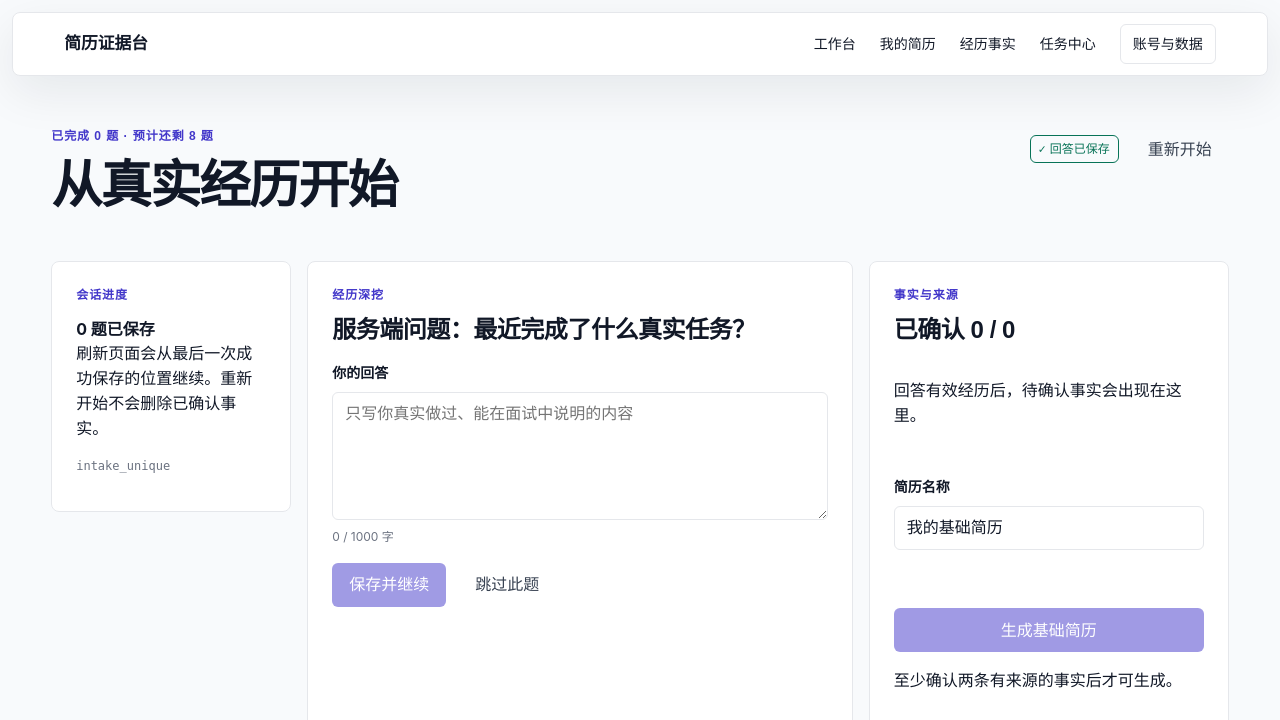
Test: V2 persisted intake › records a skip without creating a fact
Click the button "跳过此题".
click(507, 585)  # box x1=458 y1=563 x2=556 y2=607
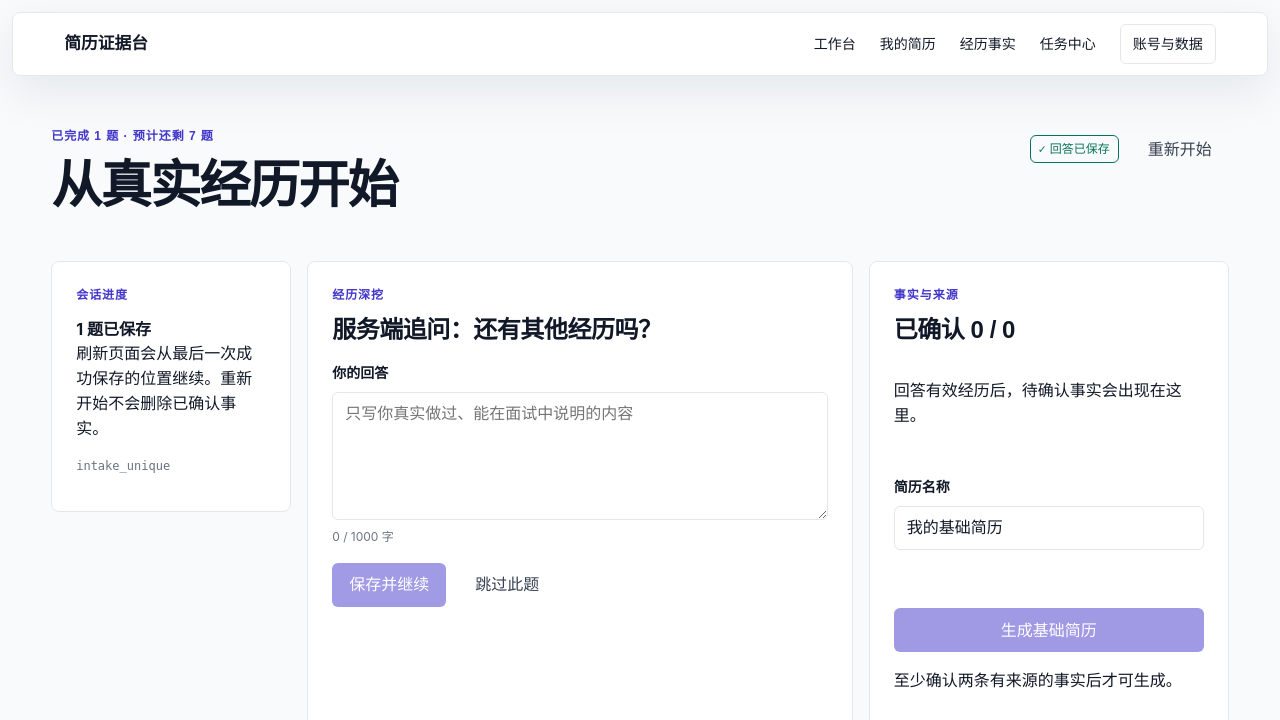
Now the heading "服务端追问：还有其他经历吗？" is shown, box x1=332 y1=316 x2=662 y2=343
